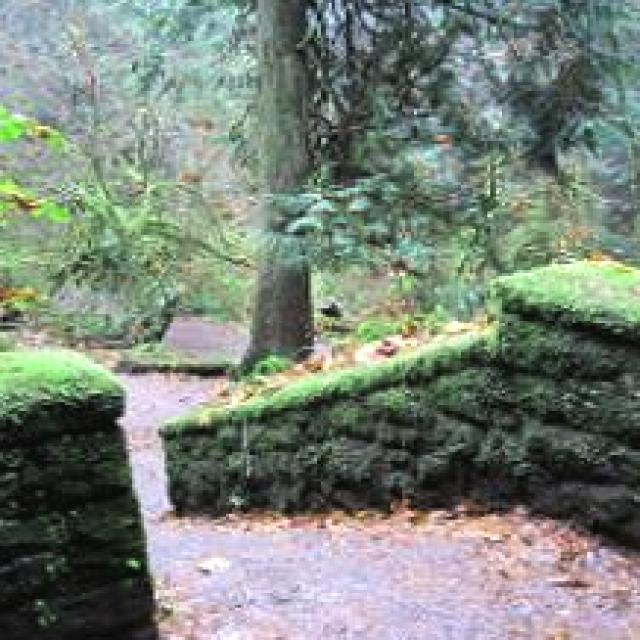downstair: (160, 497, 427, 638)
